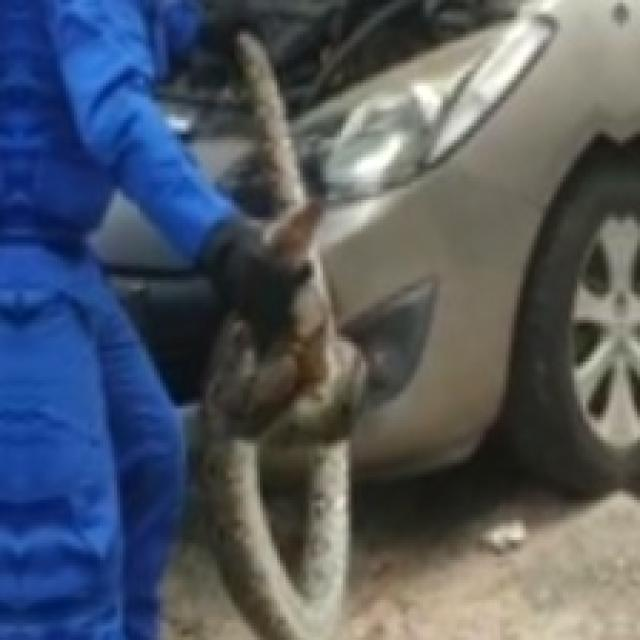reticulated python: (202, 242, 368, 640), (237, 31, 306, 217), (262, 201, 321, 266)
